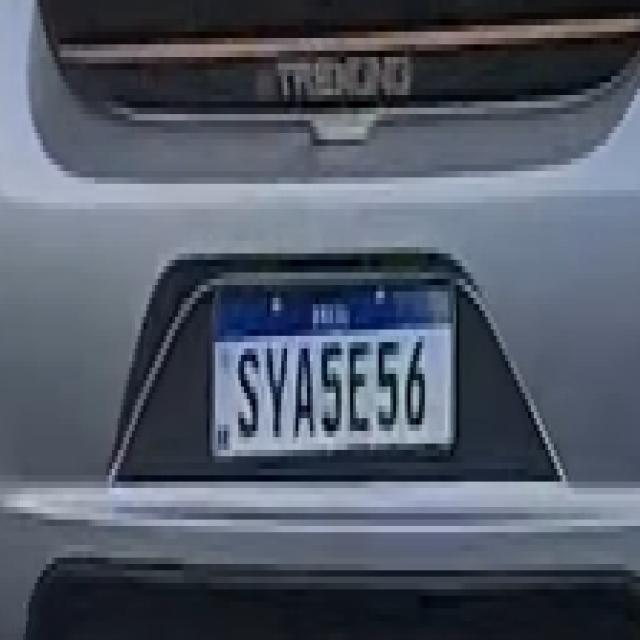Placa_mercosul_carro: (212, 279, 459, 456)
